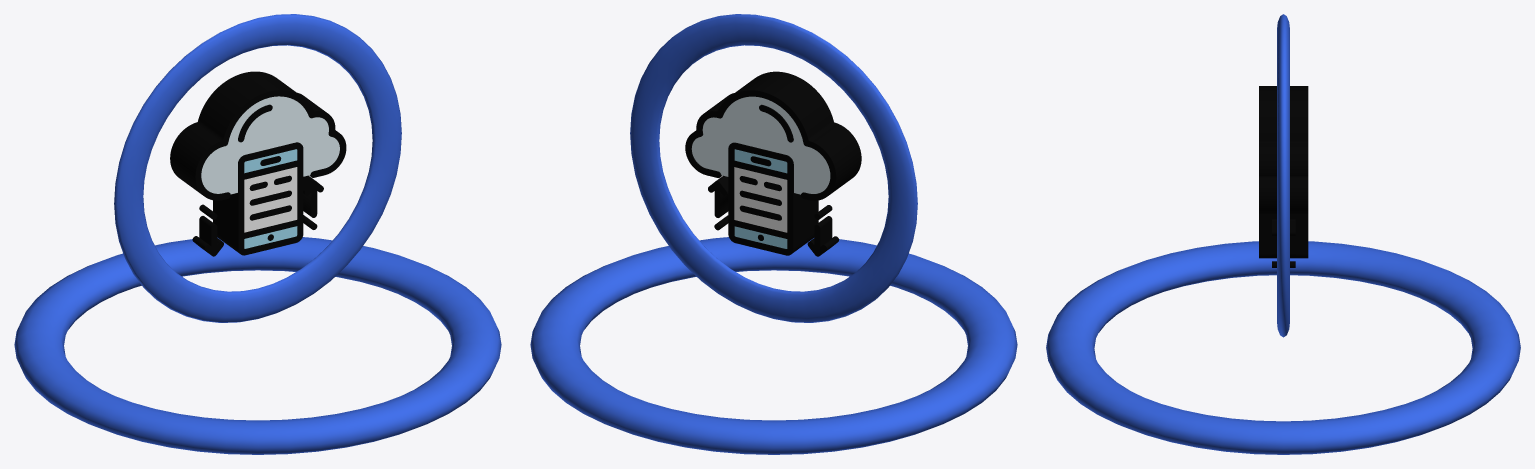
Rendered from trafico_datos.fbx.
3 views of the same model, side by side, from view 1: azimuth 30°, elevation 25°; view 2: azimuth 150°, elevation 25°; view 3: azimuth 270°, elevation 25° (orthographic). The views are drawn at different scales.
Visible parts, largest first — view 1: Rosca.002, Curve.067, Curve.064, Curve.069, Curve.066, Curve.065, Curve.071, Curve.072; view 2: Rosca.002, Curve.067, Curve.064, Curve.069, Curve.066, Curve.065, Curve.071, Curve.072; view 3: Rosca.002, Curve.067, Curve.069.
Boxes of the visible parts, x1,y1,x2,y2 form: Rosca.002: (14,14,501,454); Curve.067: (170,71,346,200); Curve.064: (201,96,339,194); Curve.069: (213,142,303,255); Curve.066: (244,167,297,232); Curve.065: (244,149,297,248); Curve.071: (192,216,223,256); Curve.072: (303,175,323,217); Rosca.002: (530,14,1017,454); Curve.067: (685,71,861,200); Curve.064: (691,96,830,194); Curve.069: (728,142,818,255); Curve.066: (734,167,787,232); Curve.065: (734,149,787,248); Curve.071: (807,216,838,256); Curve.072: (708,175,728,217); Rosca.002: (1046,14,1520,454); Curve.067: (1259,86,1308,214); Curve.069: (1259,214,1308,258).
Size of the model in its own units: 6.1 by 4.71 by 6.1.
